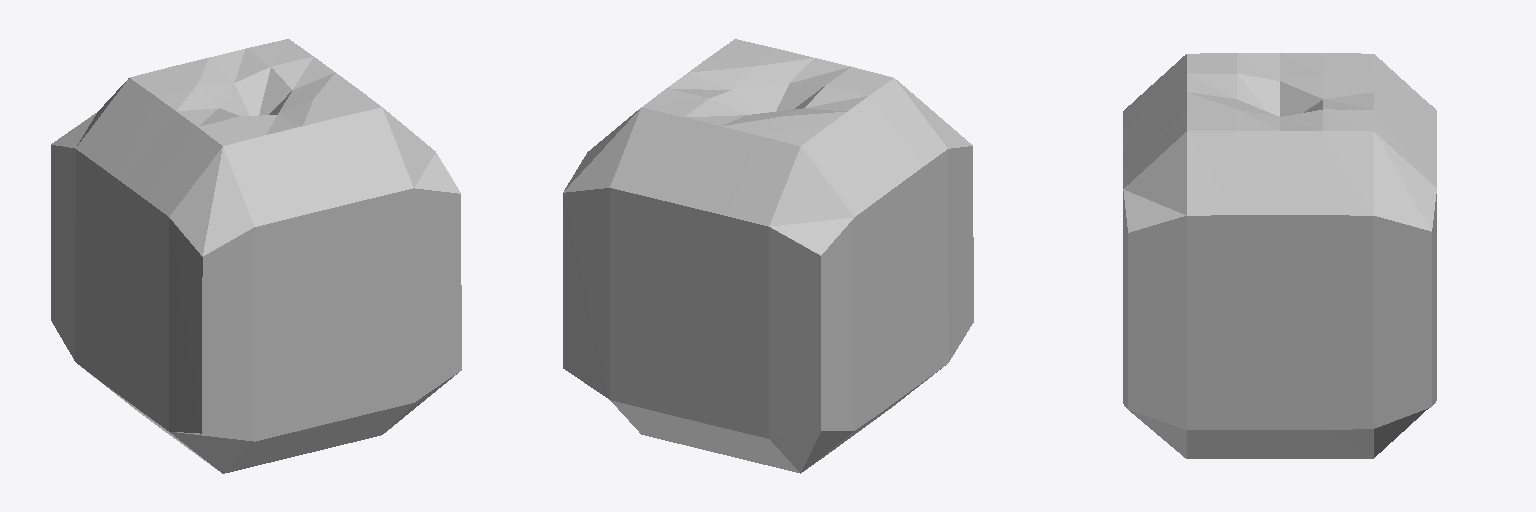
Rendered from apple.obj.
3 views of the same model, side by side, from view 1: azimuth 30°, elevation 25°; view 2: azimuth 150°, elevation 25°; view 3: azimuth 270°, elevation 25° (orthographic).
Visible parts, largest first — view 1: Cube; view 2: Cube; view 3: Cube.
Boxes of the visible parts, <box> form: Cube: <box>51,39,461,473</box>; Cube: <box>563,39,973,473</box>; Cube: <box>1123,53,1436,458</box>.
Bounding box in the file's own units: 0.6786 × 0.7967 × 0.6896.